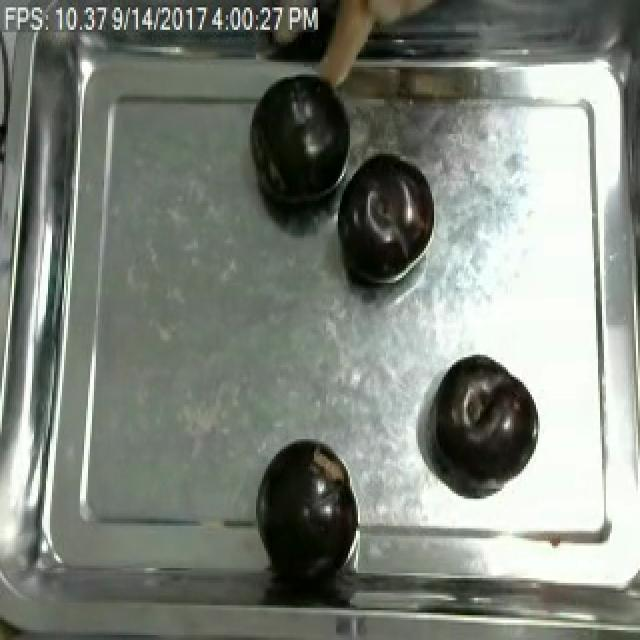Fruit: (424, 349, 540, 498), (242, 69, 356, 216), (248, 432, 362, 573), (330, 151, 440, 293)
